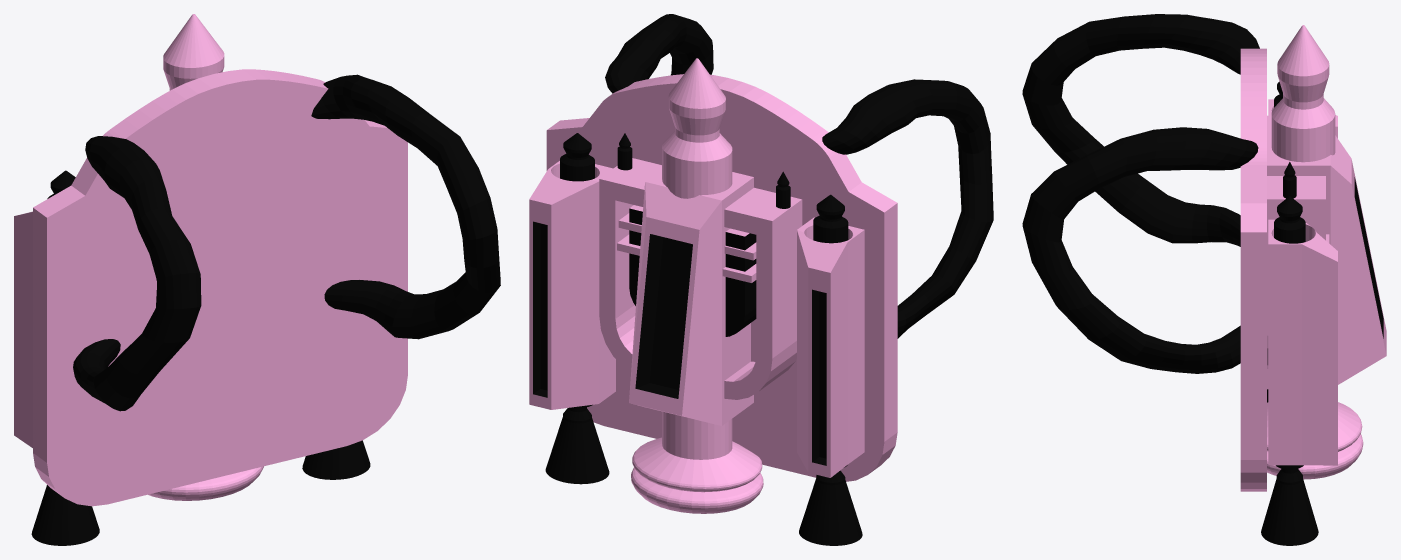
The model's file is ortabab rengli (1).fbx.
3 views of the same model, side by side, from view 1: azimuth 30°, elevation 25°; view 2: azimuth 150°, elevation 25°; view 3: azimuth 270°, elevation 25° (orthographic). The views are drawn at different scales.
Visible parts, largest first — view 1: Cube.007; view 2: Cube.007; view 3: Cube.007.
Part boxes in pixels (bbox=[...]): Cube.007: bbox=[14, 14, 500, 545]; Cube.007: bbox=[529, 14, 993, 545]; Cube.007: bbox=[1022, 14, 1386, 545].
Bounding box in the file's own units: 404 × 494 × 366.
